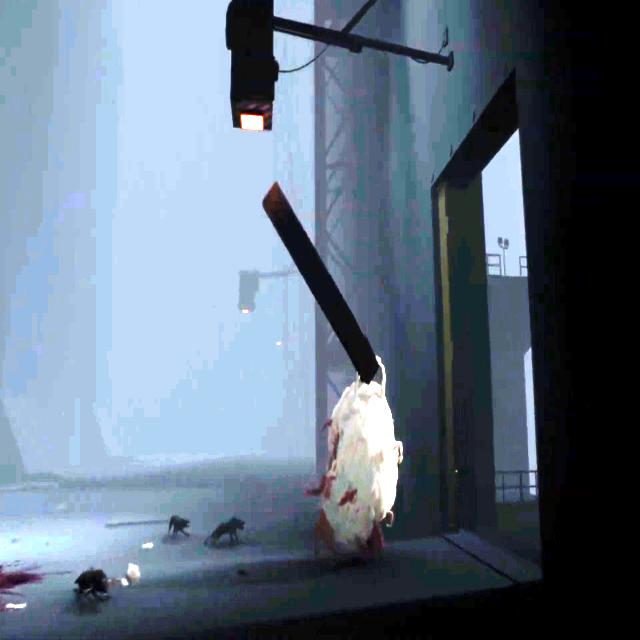blob: (308, 356, 404, 554)
dog: (206, 515, 246, 550), (73, 569, 109, 604), (168, 516, 192, 534)
interactible: (224, 0, 276, 130), (237, 269, 260, 319)
mechanism: (315, 0, 356, 476)
structure: (495, 468, 537, 500), (486, 254, 504, 274), (518, 256, 528, 277)
